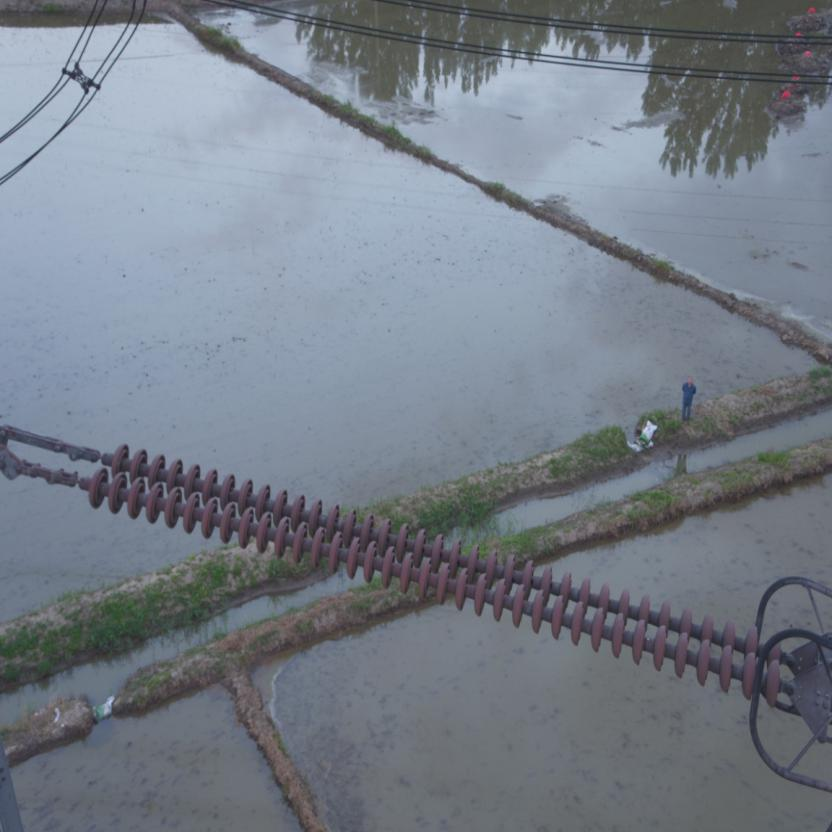insulator: (46, 436, 810, 710)
